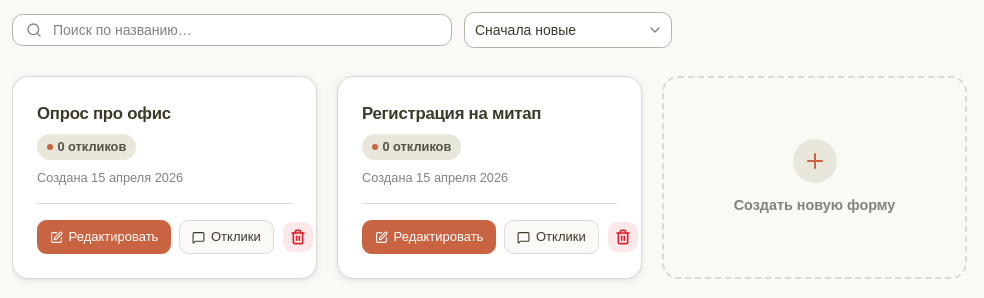
Test: FormsList › ввод текста, не совпадающего с названиями, → виден NotFoundState, грид скрыт
Type "ничегонесовпадает" into the search field named "поиск форм".
click(232, 30); type("ничегонесовпадает")  # box x1=12 y1=14 x2=452 y2=46
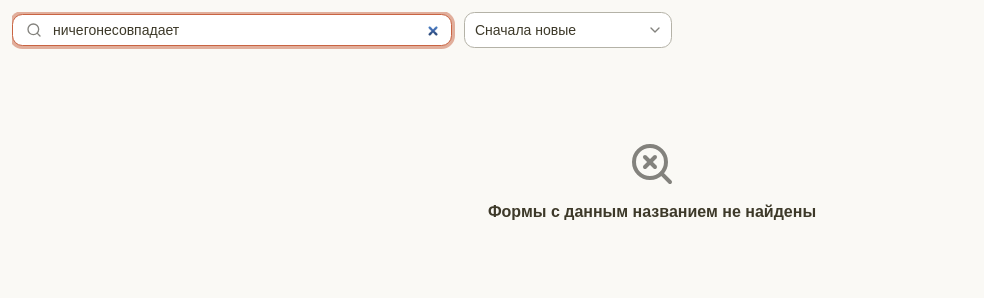
Expected: the text "Формы с данным названием не найдены" is shown, x1=488 y1=200 x2=816 y2=224
Expected: the heading "Опрос про офис" is gone
Expected: the heading "Регистрация на митап" is gone
